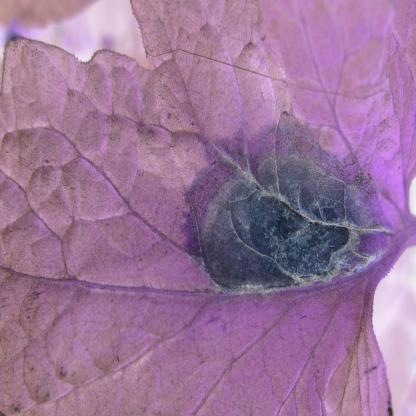tomato leaf late blight: (3, 7, 413, 402)
